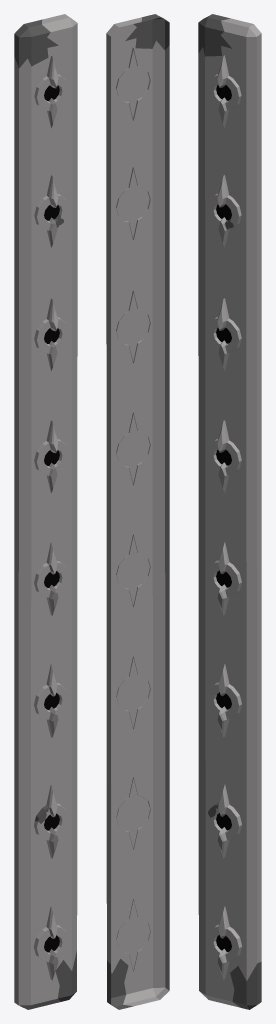
File: LGEProjectileMetalTrap.fbx
3 views of the same model, side by side, from view 1: azimuth 30°, elevation 25°; view 2: azimuth 210°, elevation 25°; view 3: azimuth 330°, elevation 25° (orthographic).
Parts seen in each view (by area): view 1: LGEProjectileMetalTrap; view 2: LGEProjectileMetalTrap; view 3: LGEProjectileMetalTrap.
Part boxes in pixels (x1=…): LGEProjectileMetalTrap: x1=14, y1=14, x2=77, y2=1009; LGEProjectileMetalTrap: x1=106, y1=14, x2=169, y2=1009; LGEProjectileMetalTrap: x1=198, y1=14, x2=261, y2=1009.
Bounding box in the file's own units: 15.07 × 242 × 6.
